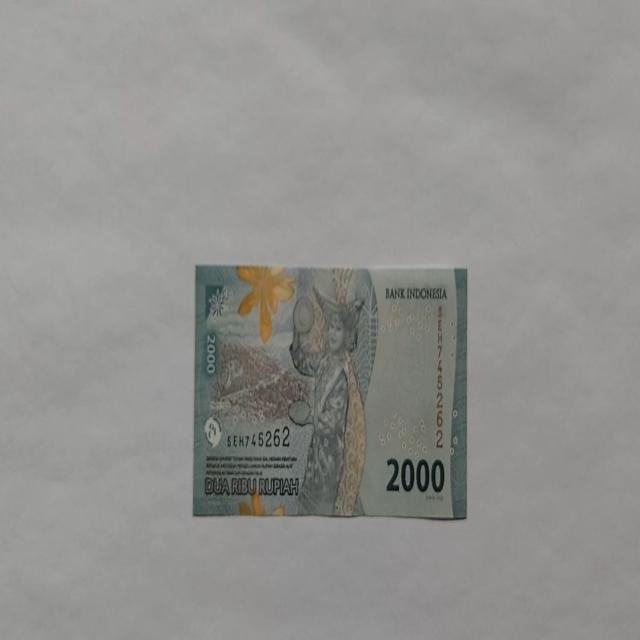dua ribu rupiah: (192, 263, 468, 520), (288, 284, 368, 516)
